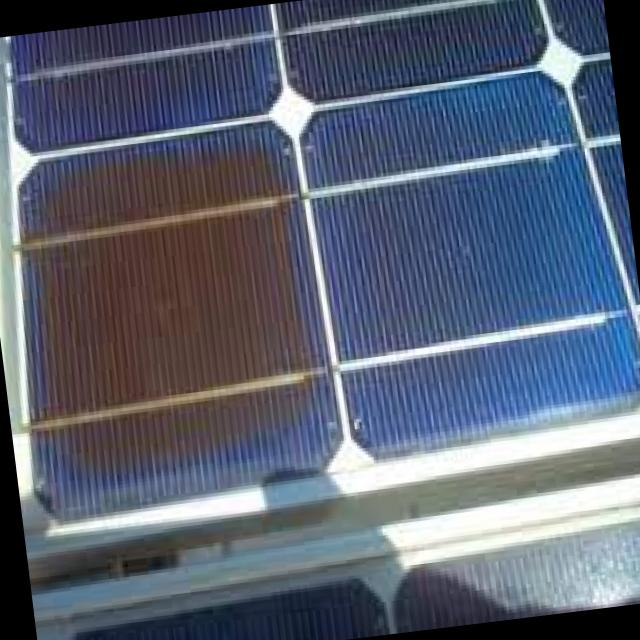faulty: (16, 121, 335, 484)
